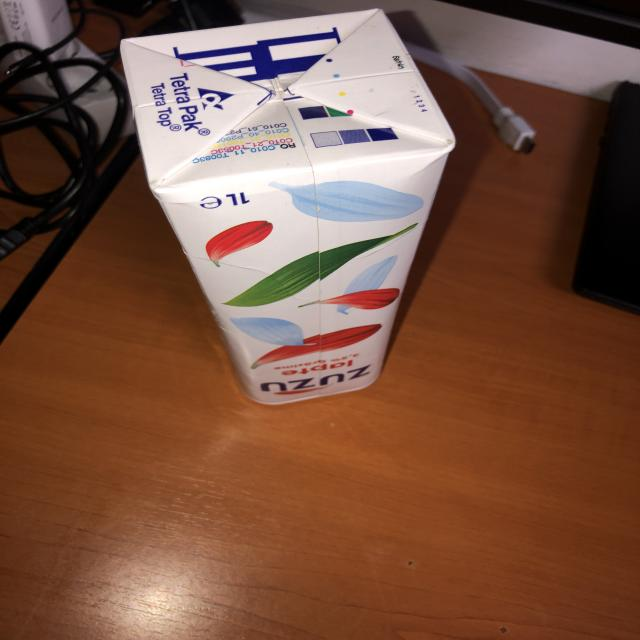milk: (120, 8, 460, 411)
